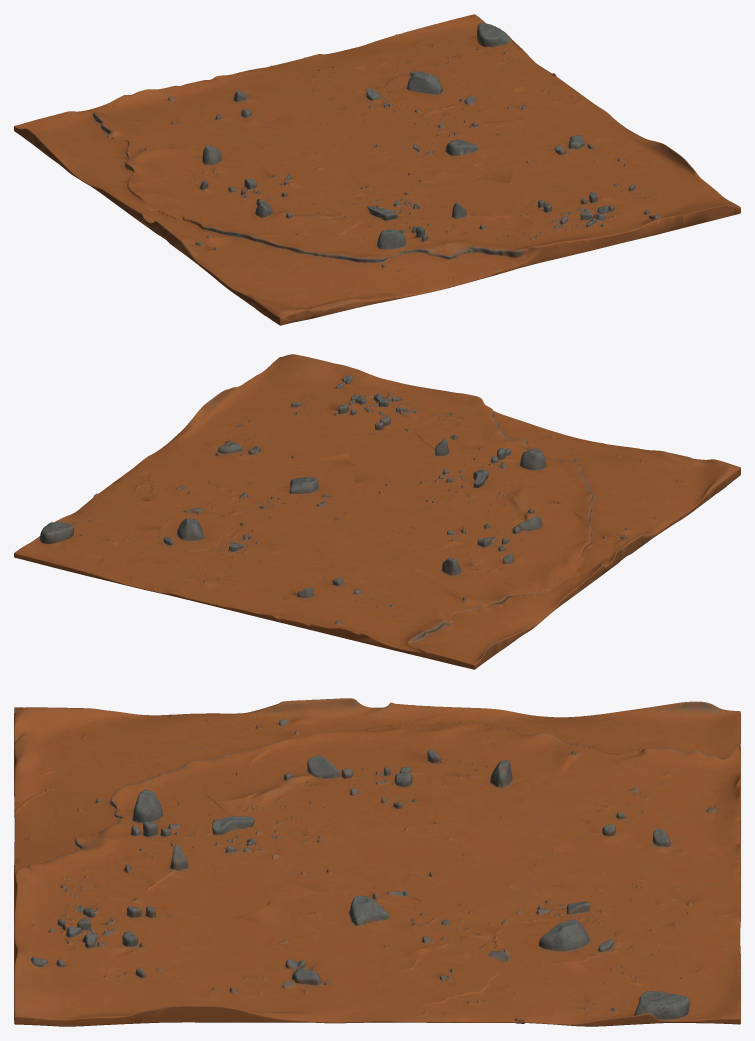
The model's file is mars_ground.glb.
The picture shows the model from 3 angles, top to bottom: view 1: azimuth 30°, elevation 25°; view 2: azimuth 150°, elevation 25°; view 3: azimuth 270°, elevation 25°; orthographic projection. The views are drawn at different scales.
Parts seen in each view (by area): view 1: mars_ground; view 2: mars_ground; view 3: mars_ground.
Boxes of the visible parts, x1=… form: mars_ground: x1=14, y1=14, x2=740, y2=325; mars_ground: x1=14, y1=354, x2=740, y2=669; mars_ground: x1=14, y1=698, x2=740, y2=1026.
Size of the model in its own units: 4 by 0.2153 by 4.
Materials: 1 (1 with a texture image).
